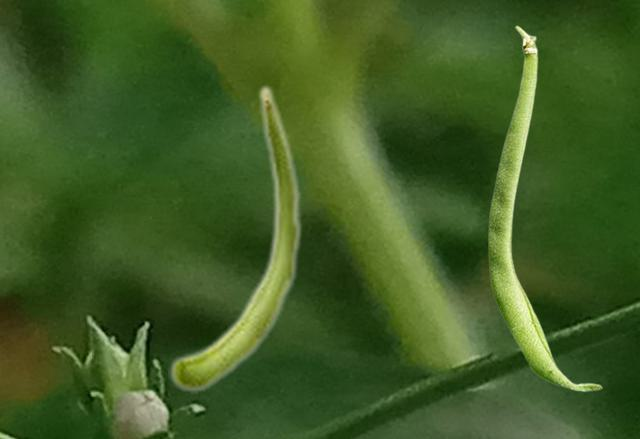french_bean: (488, 25, 602, 391), (168, 83, 302, 392)
